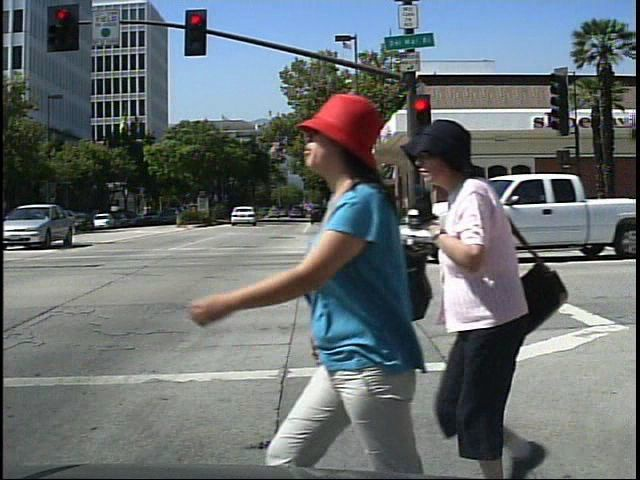person: (217, 64, 433, 477), (413, 117, 570, 480)
